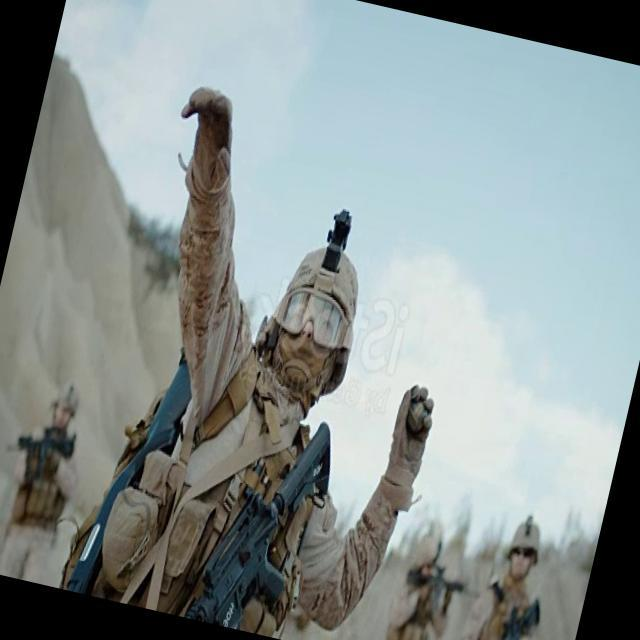grenade: (393, 380, 438, 440)
